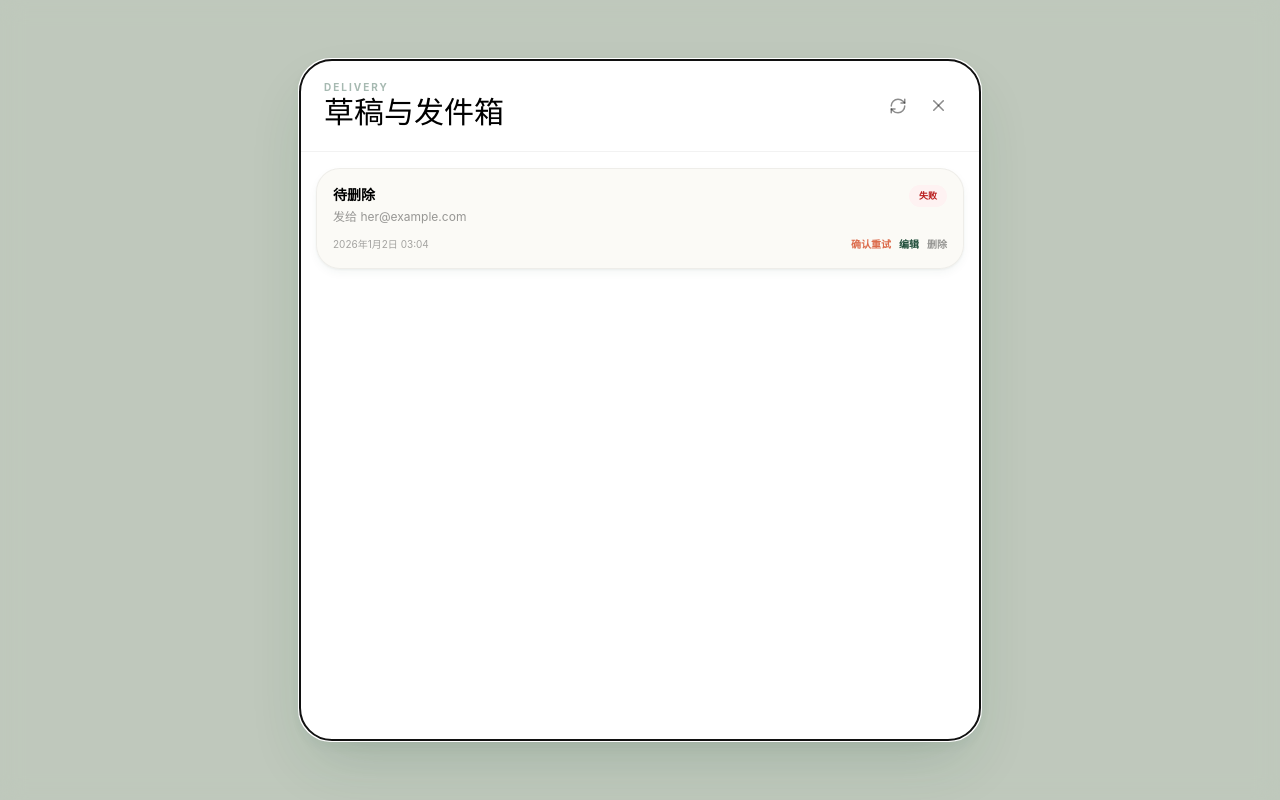
Test case: outbox dialog › surfaces a failed delete without dropping the row from the list
This screenshot has width=1280, height=800.
Click the button "删除": [937, 244] box [927,237,947,252]
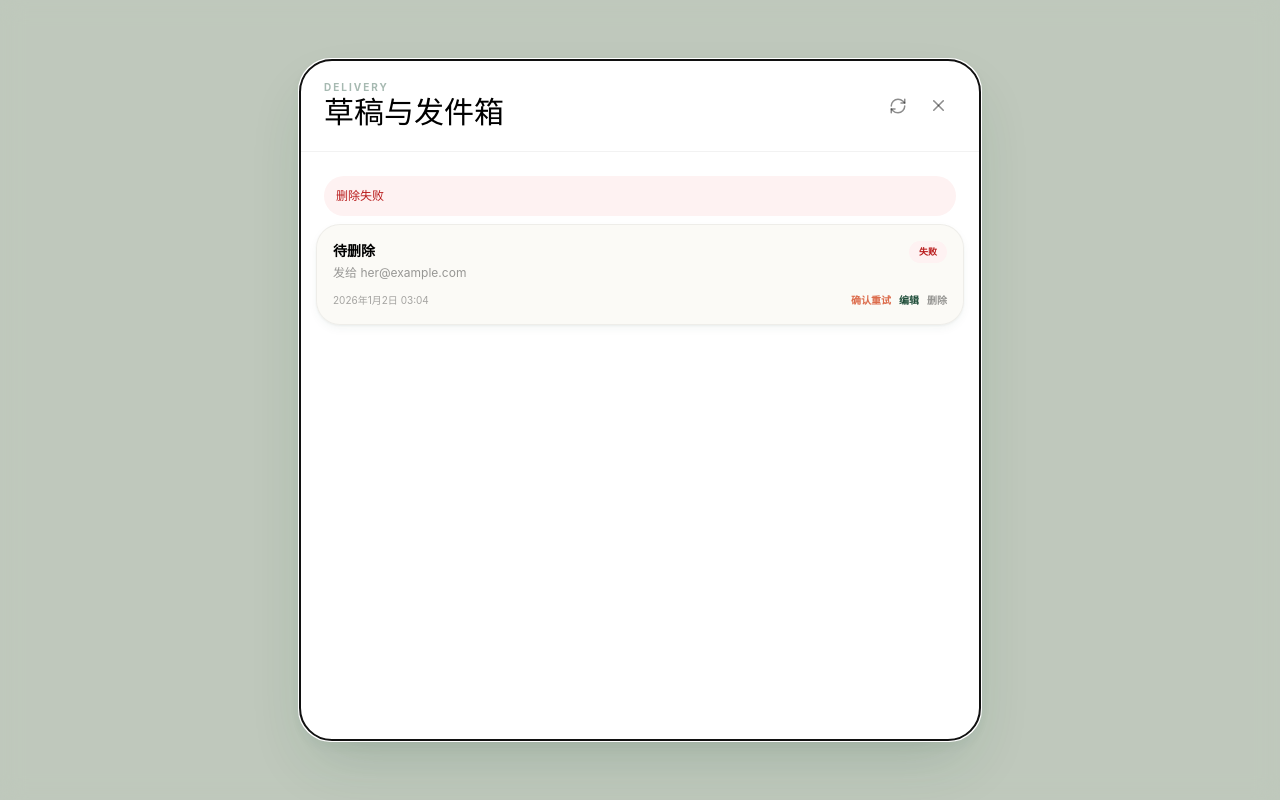
Check: the text "待删除" is shown, box [333,242,375,259]
Check: the text "删除失败" is shown, box [324,176,956,216]
